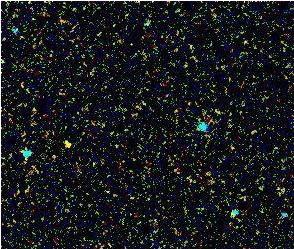star: (49, 129, 79, 159)
